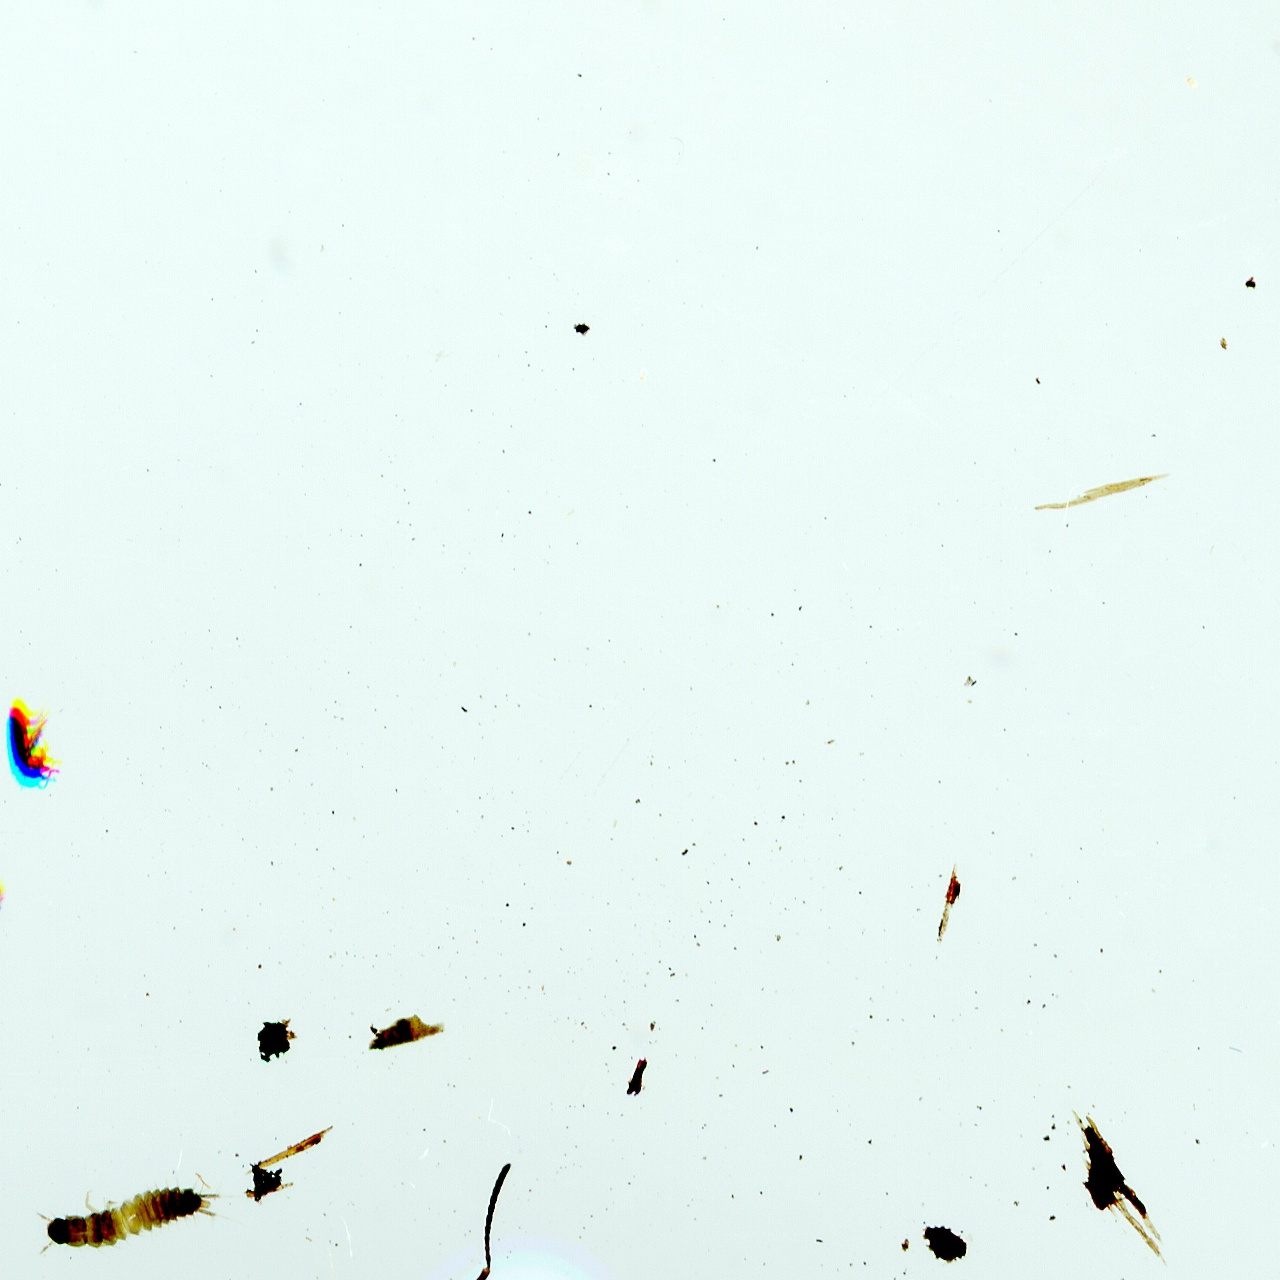arthropod: (346, 1158, 731, 1280), (20, 1157, 254, 1271), (0, 690, 64, 802)
